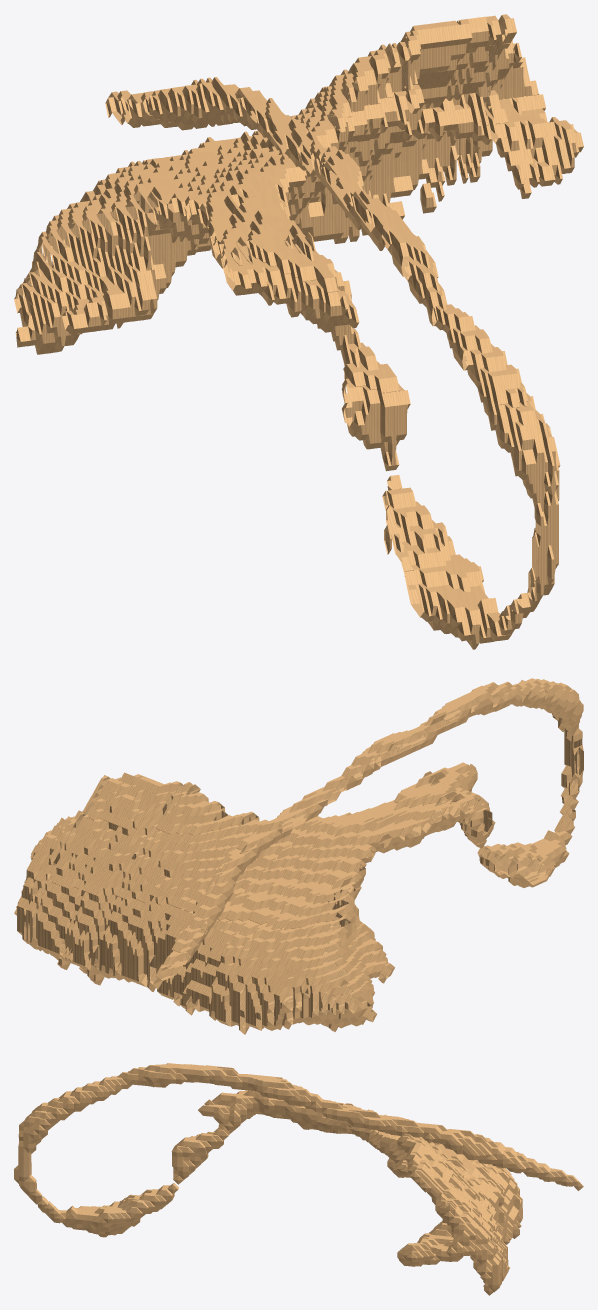
The model's file is SVV_URYDL.gltf.
3 views of the same model, one above another, from view 1: azimuth 30°, elevation 25°; view 2: azimuth 150°, elevation 25°; view 3: azimuth 270°, elevation 25° (orthographic). The views are drawn at different scales.
Parts seen in each view (by area): view 1: URYDL; view 2: URYDL; view 3: URYDL.
Boxes of the visible parts, bbox=[...] form: URYDL: bbox=[14, 14, 583, 649]; URYDL: bbox=[14, 678, 583, 1034]; URYDL: bbox=[14, 1063, 583, 1295].
Size of the model in its own units: 36938 by 23066 by 67936.
